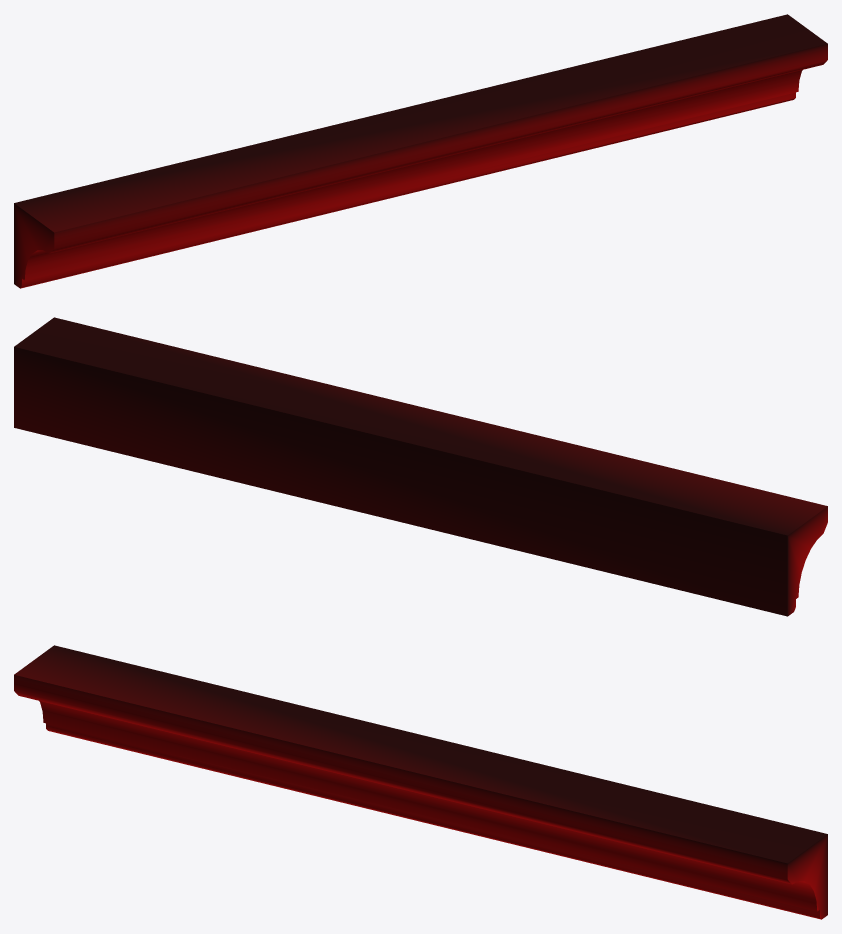
File: CI_Shell_Trim_Crown_1m.glb
The picture shows the model from 3 angles, top to bottom: view 1: azimuth 30°, elevation 25°; view 2: azimuth 150°, elevation 25°; view 3: azimuth 330°, elevation 25°; orthographic projection.
Visible parts, largest first — view 1: CI_Shell_Trim_Crown_1m; view 2: CI_Shell_Trim_Crown_1m; view 3: CI_Shell_Trim_Crown_1m.
Boxes of the visible parts, x1,y1,x2,y2 form: CI_Shell_Trim_Crown_1m: (14,14,827,288); CI_Shell_Trim_Crown_1m: (14,317,827,616); CI_Shell_Trim_Crown_1m: (14,645,827,919).
Bounding box in the file's own units: 1 × 0.1 × 0.09.
